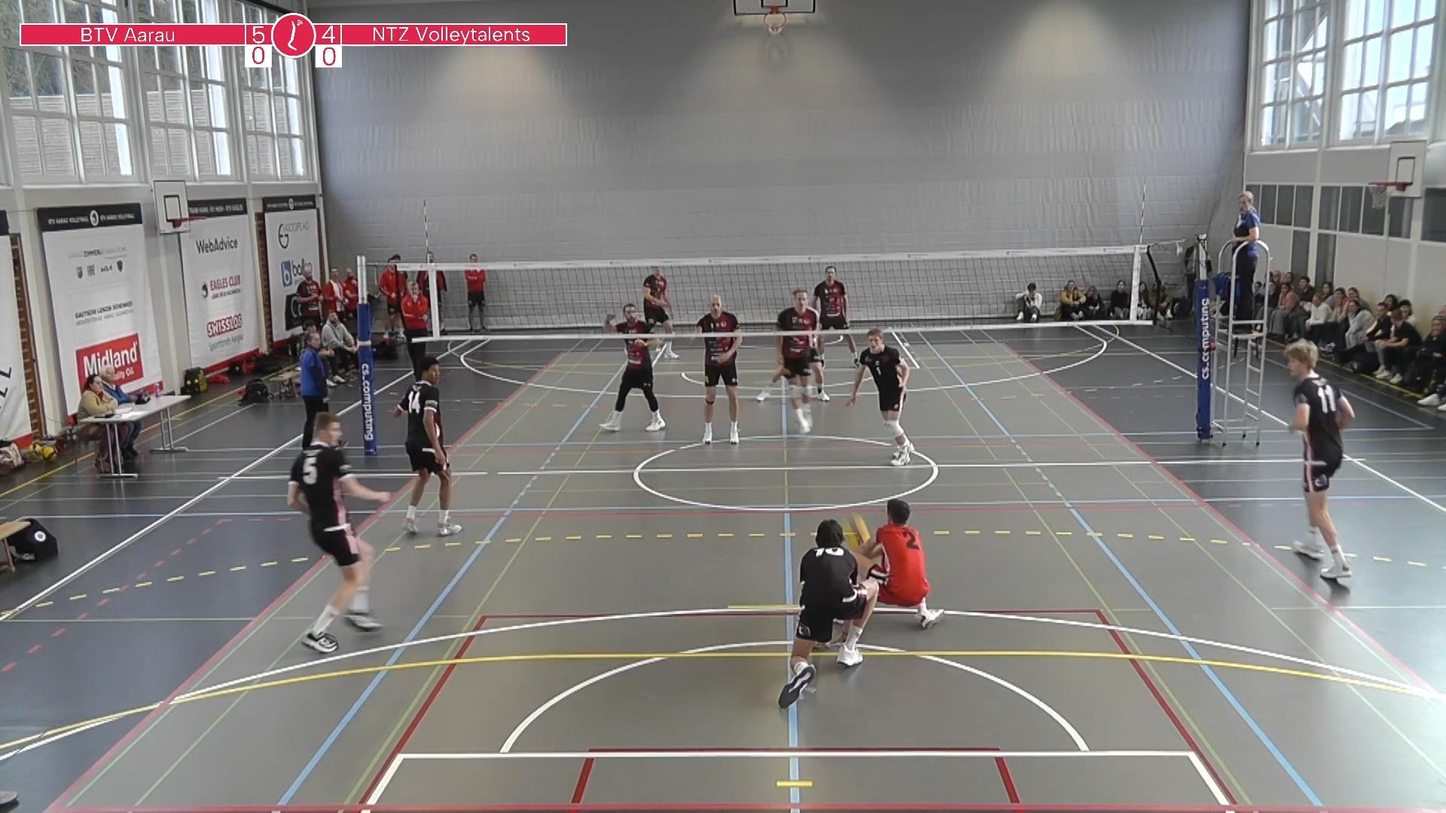ricezione: (843, 487, 951, 628)
